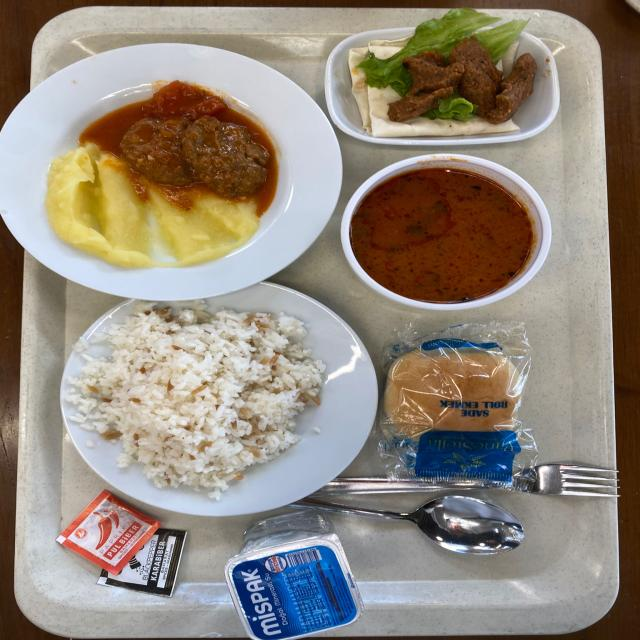ana_yemek: (43, 46, 331, 254), (101, 267, 343, 478)
corba: (362, 133, 550, 279)
yan_yemek: (340, 4, 560, 122)
